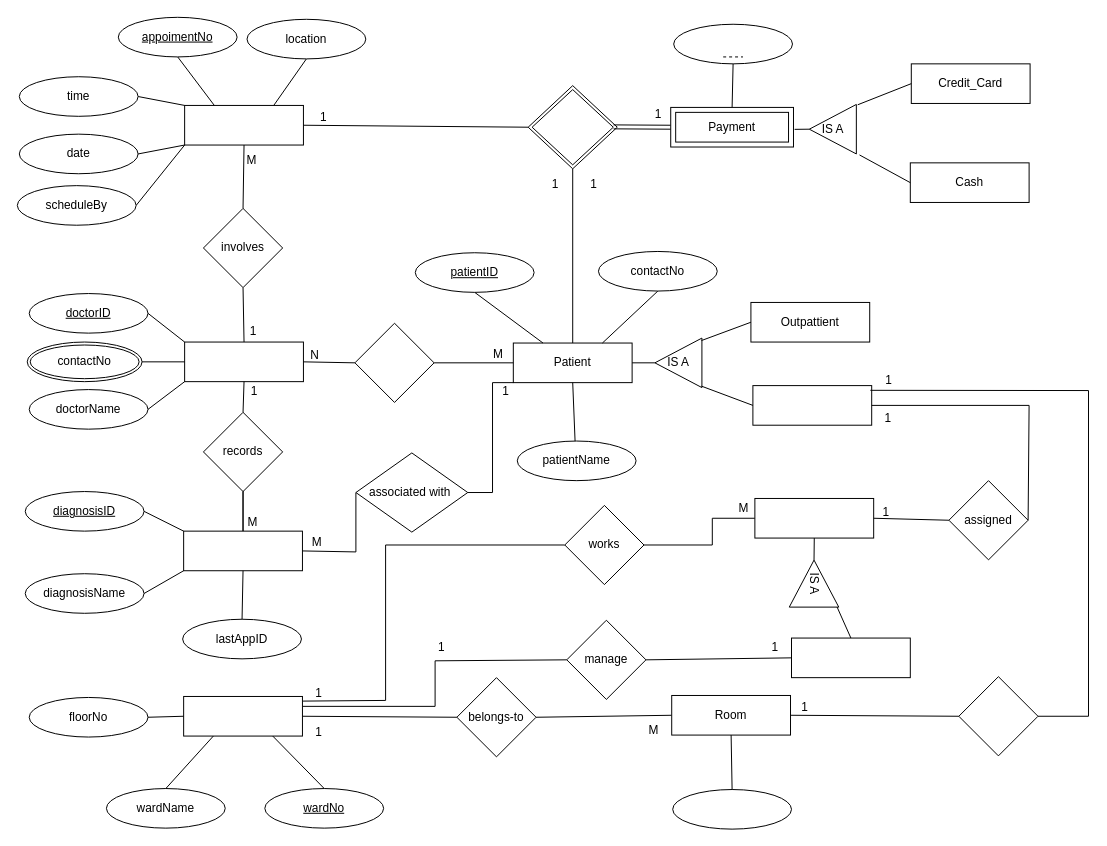
The diagram is 1107 pixels wide and 846 high, and some of its shapes have lost their labels. The shapes that lost their labels are listed below. From the top down, each one's centre as x and y in pixels, then its label:
point (732, 43): pID
point (243, 124): Appoiment
point (572, 127): makes
point (243, 361): Doctor
point (394, 362): treats
point (812, 405): Admitted_Patient
point (814, 517): Nurse
point (242, 550): Diagnosis
point (850, 657): headNurse
point (242, 715): Ward
point (998, 716): assigned to
point (732, 809): roomNO
